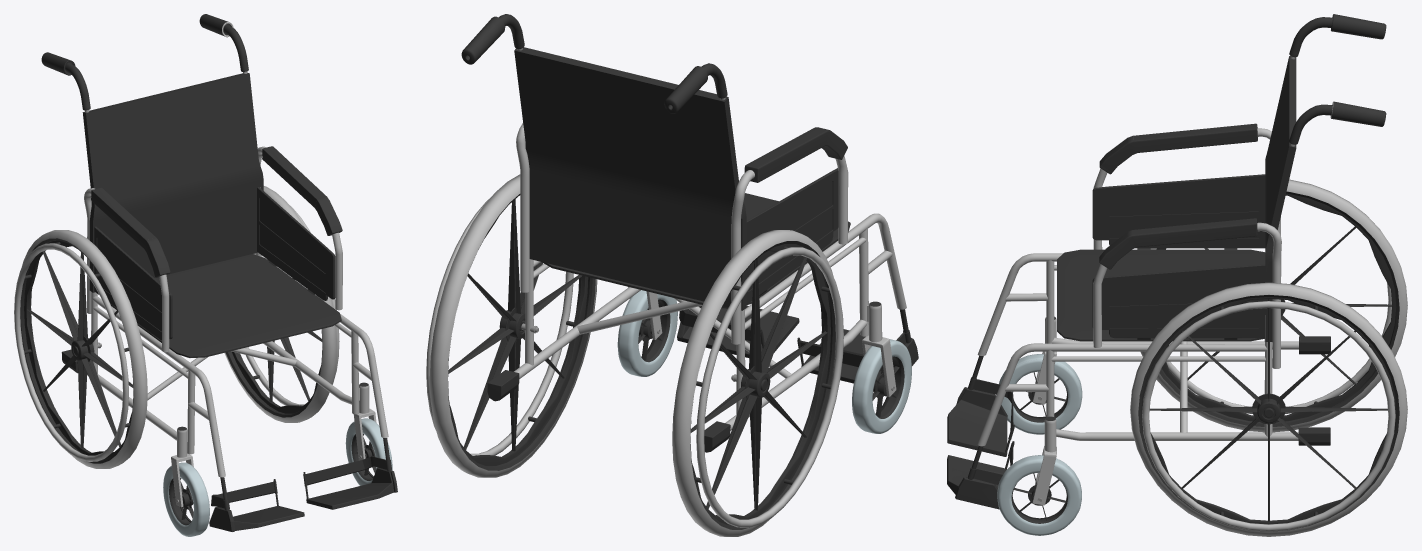
The model's file is wheelchair.fbx.
3 renders of one model, left to right at view 1: azimuth 30°, elevation 25°; view 2: azimuth 150°, elevation 25°; view 3: azimuth 270°, elevation 25°, orthographic. The views are drawn at different scales.
Parts seen in each view (by area): view 1: body, rightWheel, leftWheel; view 2: body, rightWheel, leftWheel; view 3: body, leftWheel, rightWheel.
Part boxes in pixels (x1,y1,x2,y2): body: (41, 14, 397, 536); rightWheel: (14, 230, 147, 468); leftWheel: (224, 186, 339, 422); body: (461, 14, 918, 452); rightWheel: (672, 230, 843, 536); leftWheel: (426, 174, 597, 477); body: (947, 14, 1386, 535); leftWheel: (1130, 282, 1407, 536); rightWheel: (1140, 179, 1407, 432).
Bounding box in the file's own units: 12.04 × 20.05 × 19.69.
